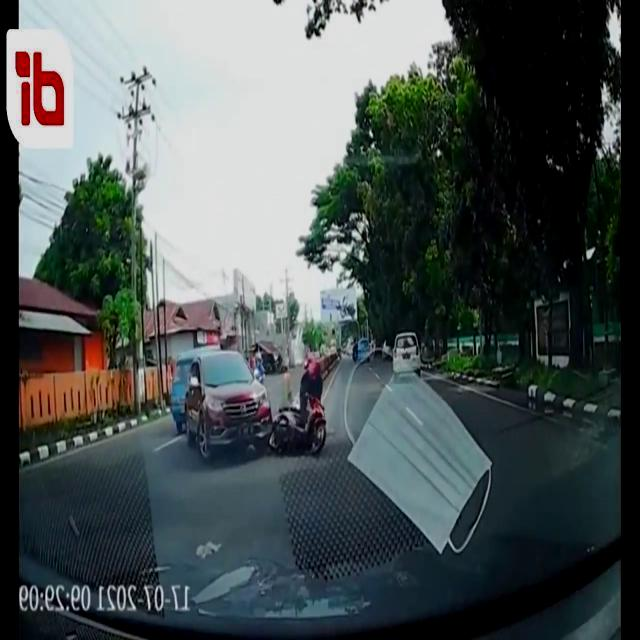accident: (185, 352, 327, 464)
non-accident: (351, 334, 421, 384)
